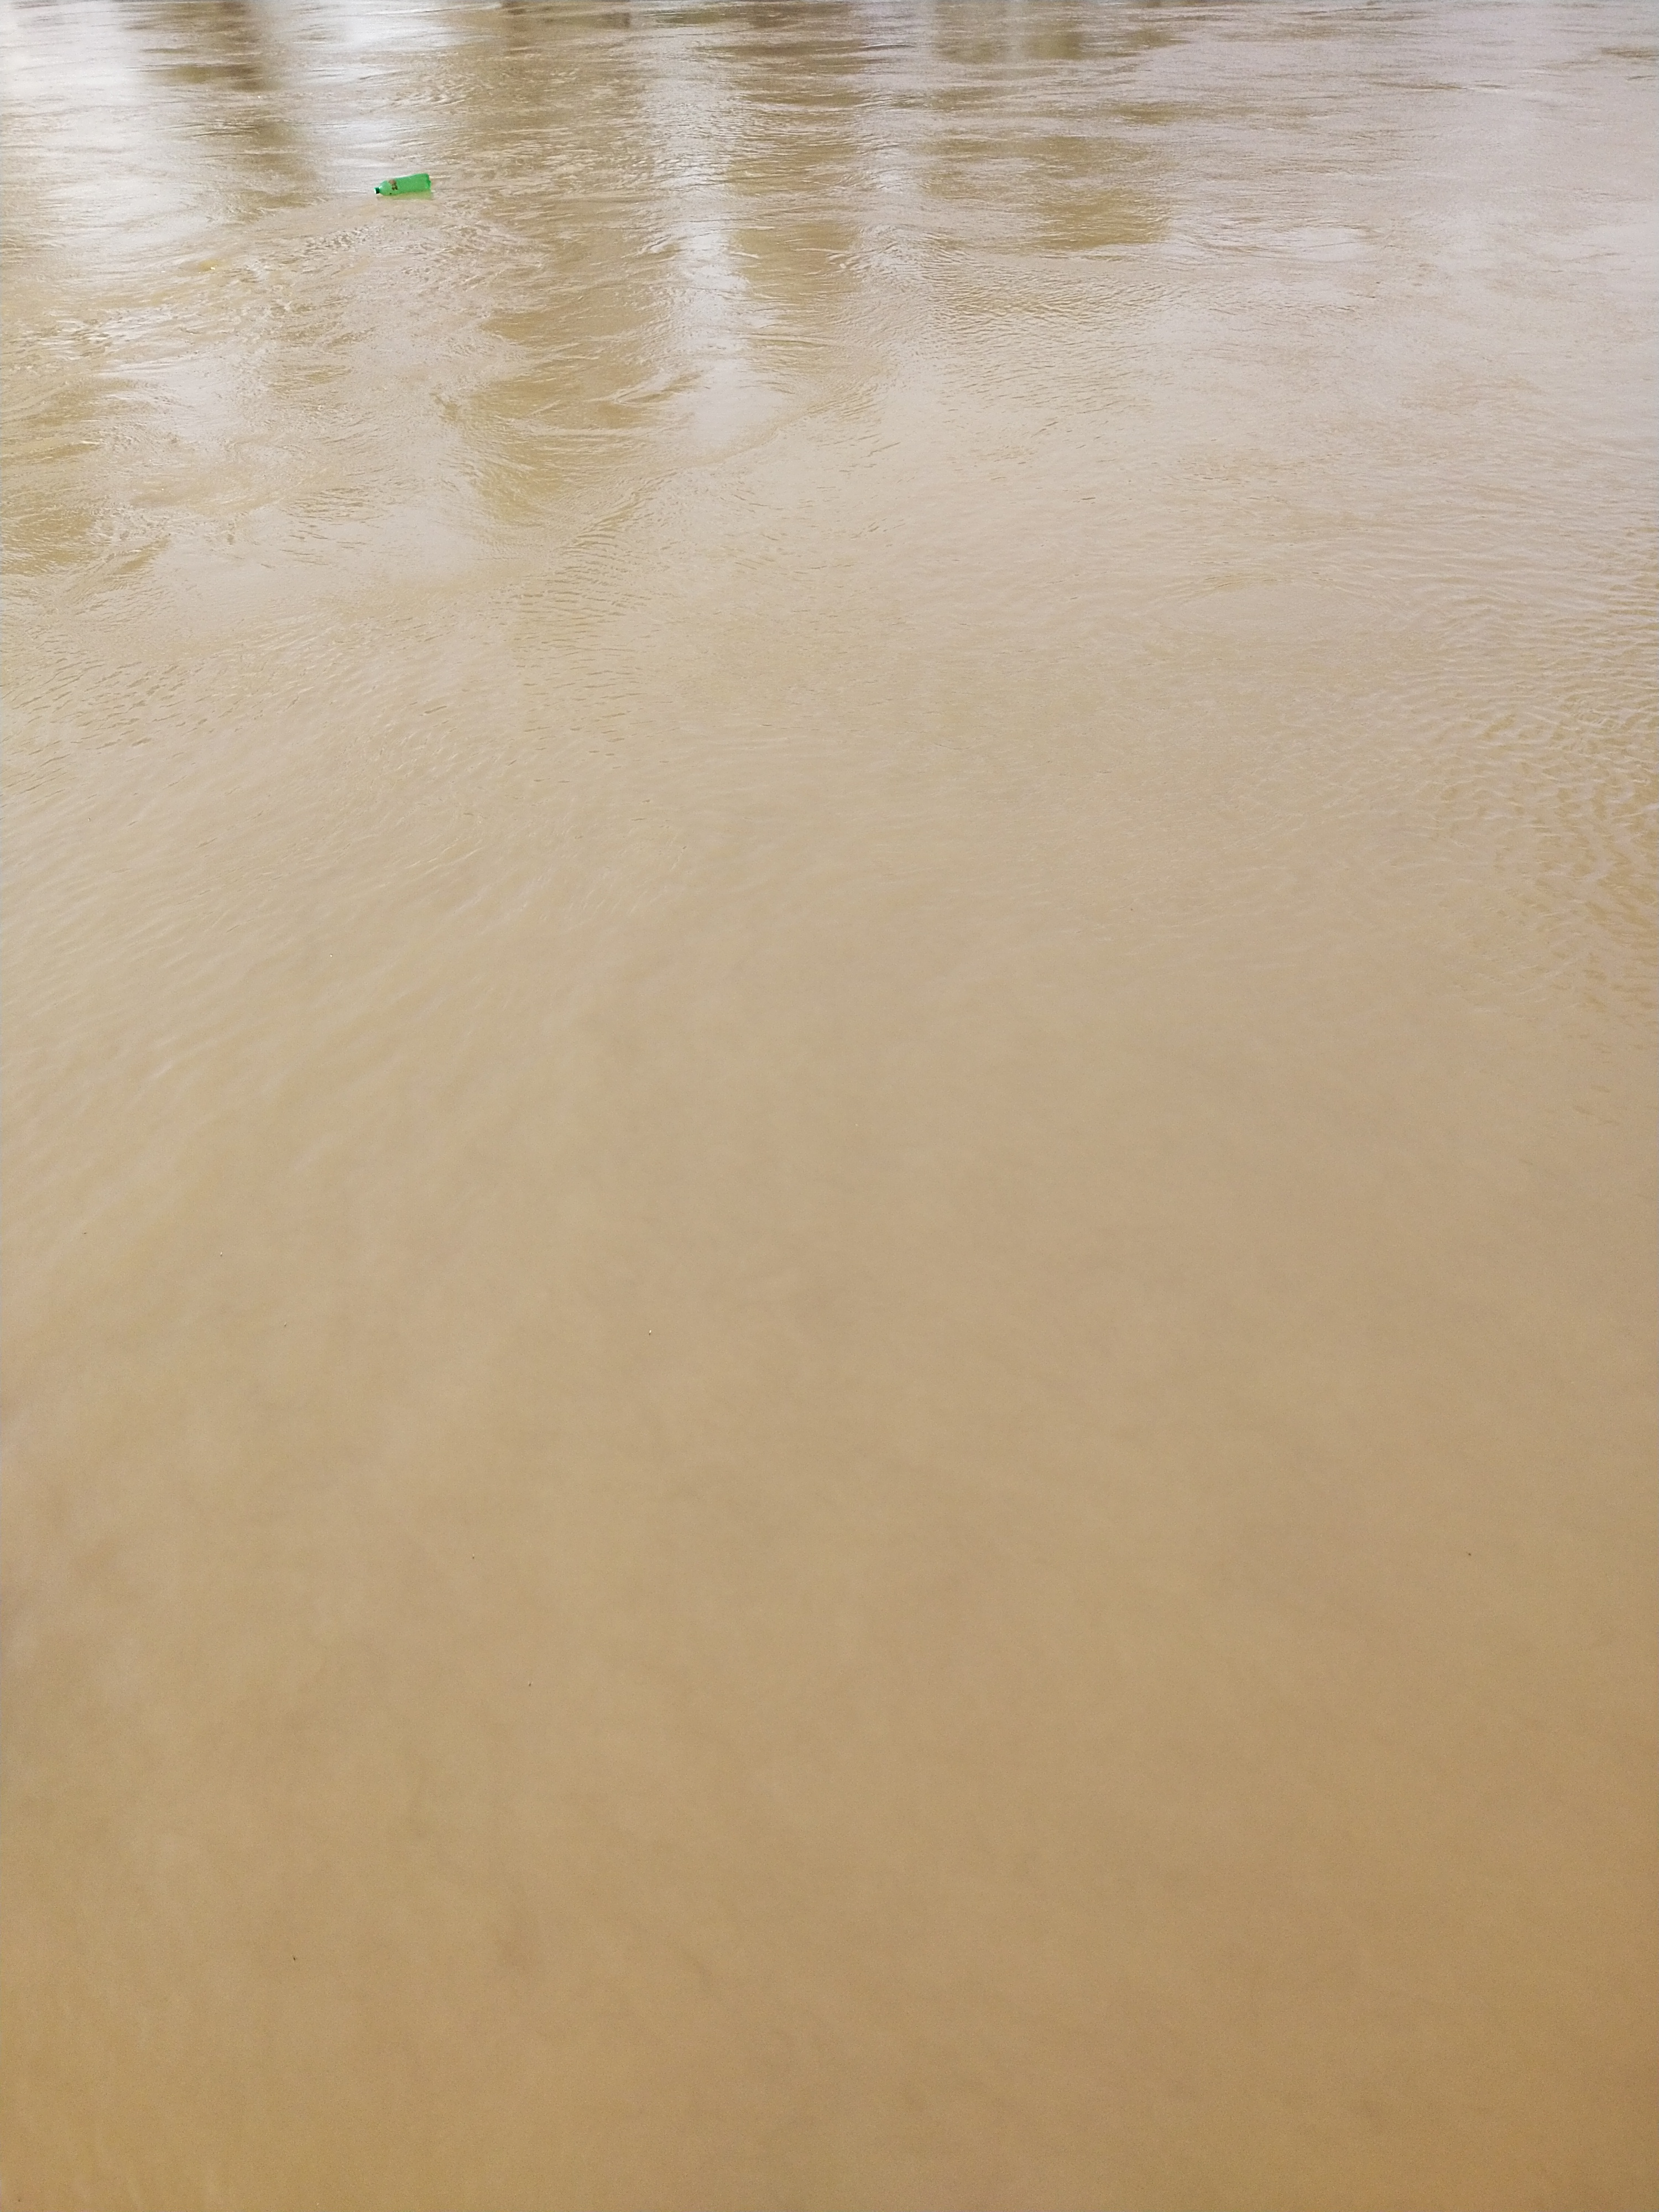Plastic Bottle: (375, 174, 430, 195)
